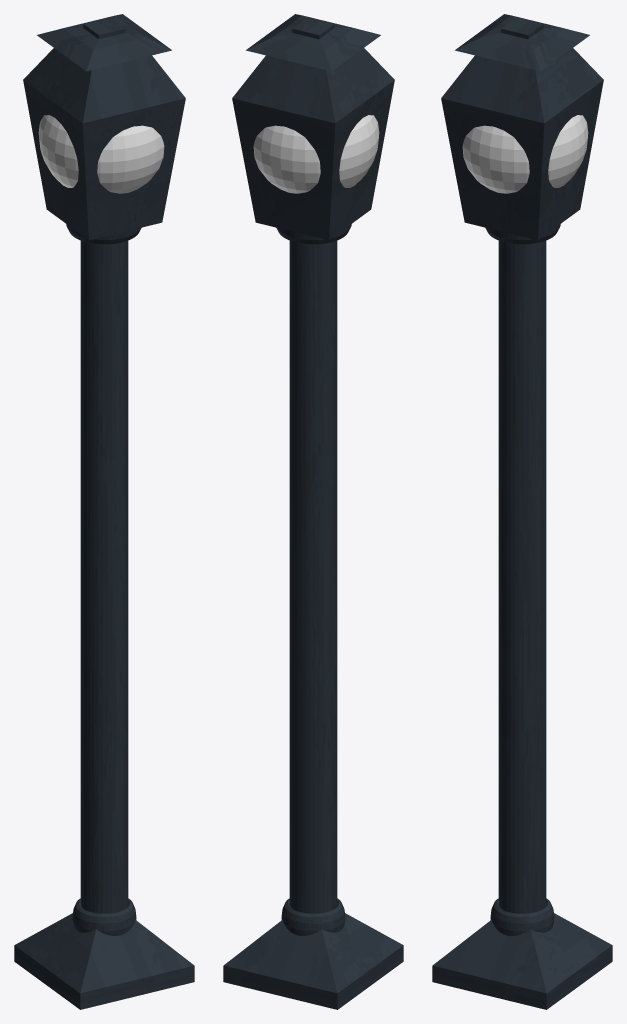
Rendered from lampTextured.fbx.
3 views of the same model, side by side, from view 1: azimuth 30°, elevation 25°; view 2: azimuth 150°, elevation 25°; view 3: azimuth 330°, elevation 25° (orthographic).
Parts seen in each view (by area): view 1: Cylinder, Sphere; view 2: Cylinder, Sphere; view 3: Cylinder, Sphere.
Boxes of the visible parts, x1,y1,x2,y2 form: Cylinder: (14,14,194,1009); Sphere: (38,115,164,193); Cylinder: (223,14,403,1009); Sphere: (253,115,379,193); Cylinder: (432,14,612,1009); Sphere: (462,115,588,193).
Bounding box in the file's own units: 200 × 1582 × 200.
